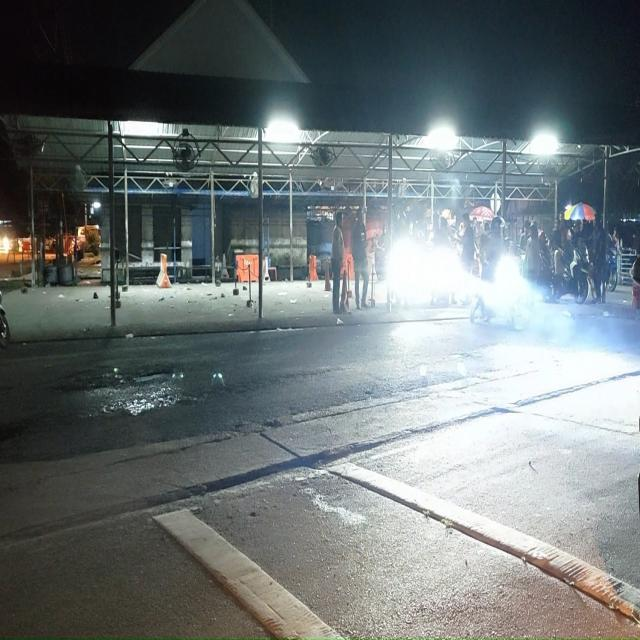Golongan II: (470, 256, 532, 329), (553, 247, 590, 304), (604, 250, 618, 292)
